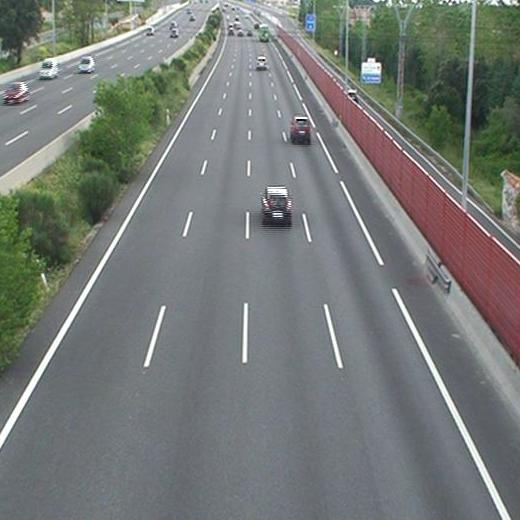bus: (259, 23, 269, 41)
car: (262, 187, 291, 219), (292, 117, 311, 139), (255, 56, 266, 69)
